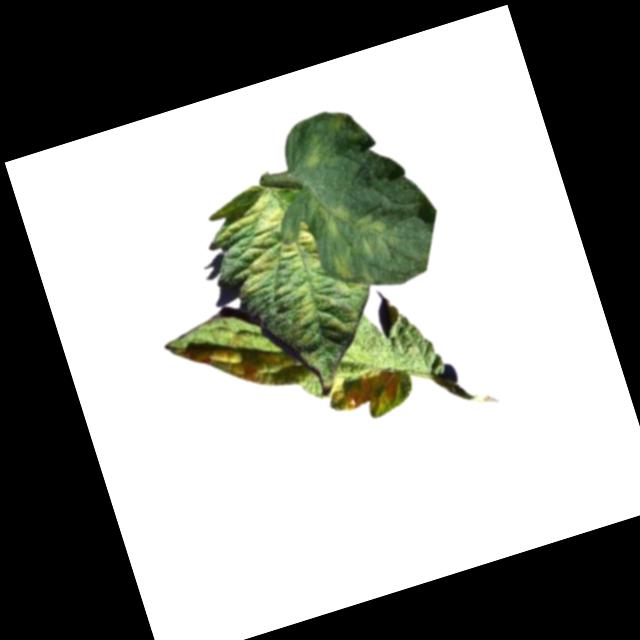Leaf_Mold: (162, 317, 306, 419), (208, 178, 325, 302), (311, 187, 400, 271), (320, 359, 408, 426), (291, 108, 358, 174), (326, 247, 359, 284)
